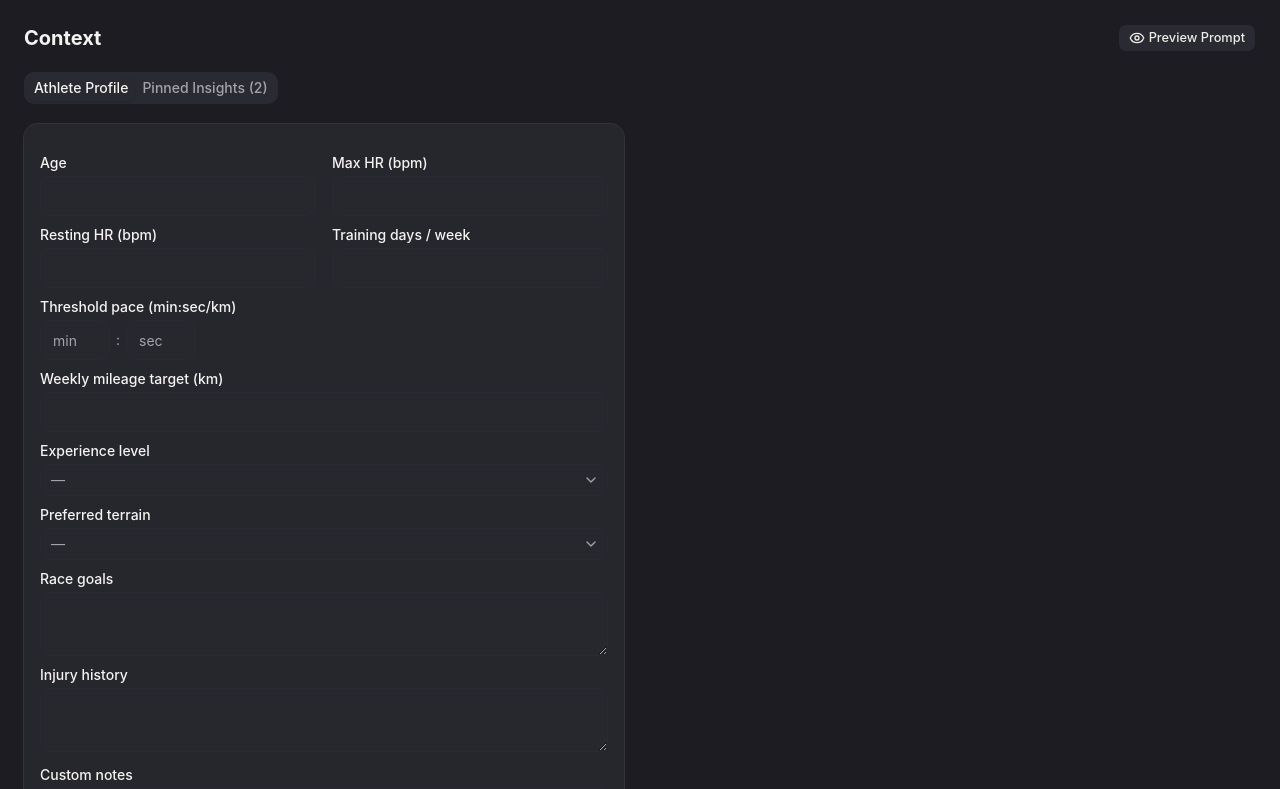
Test case: Context › renders insights tab when clicked
Click the tab "Pinned Insights (2)" at coordinates (205, 88), box 135,76 -> 275,100
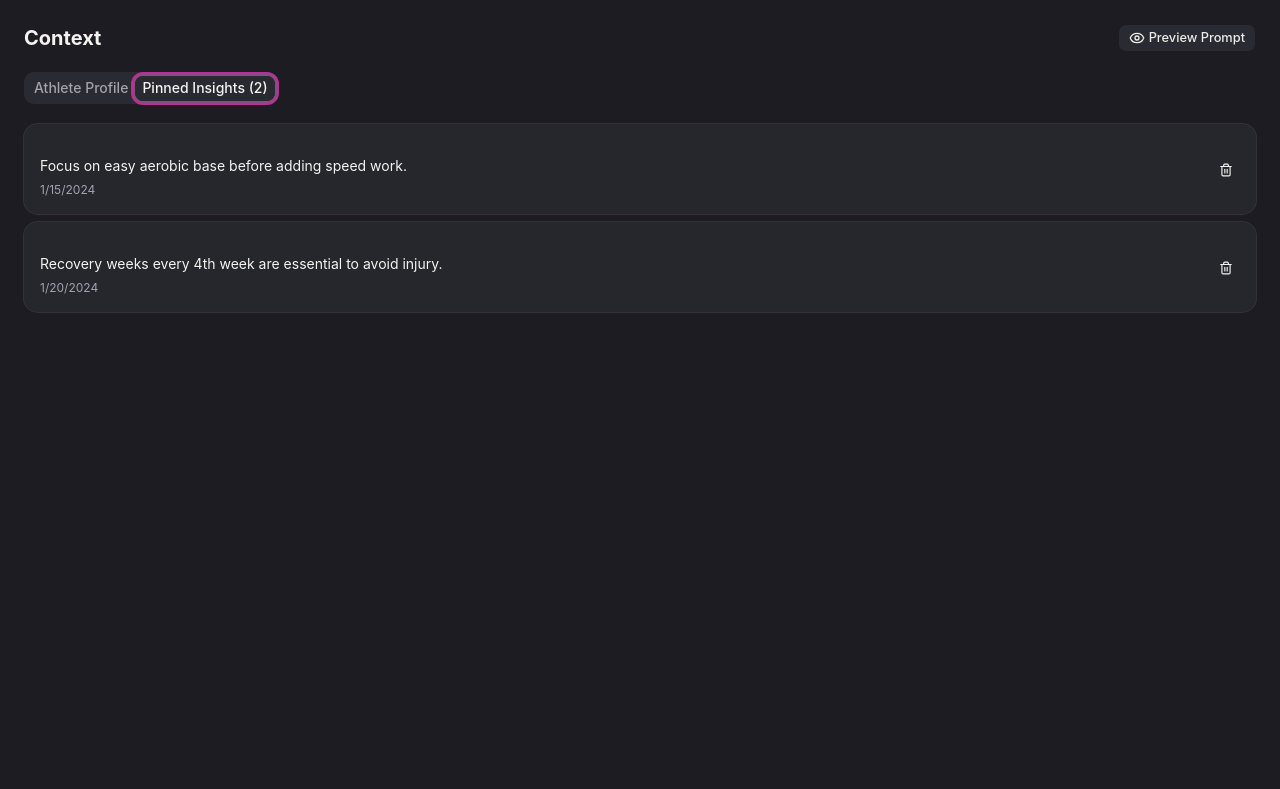
Result: the text "Focus on easy aerobic base before adding speed work." is shown at 40,157 -> 407,174
